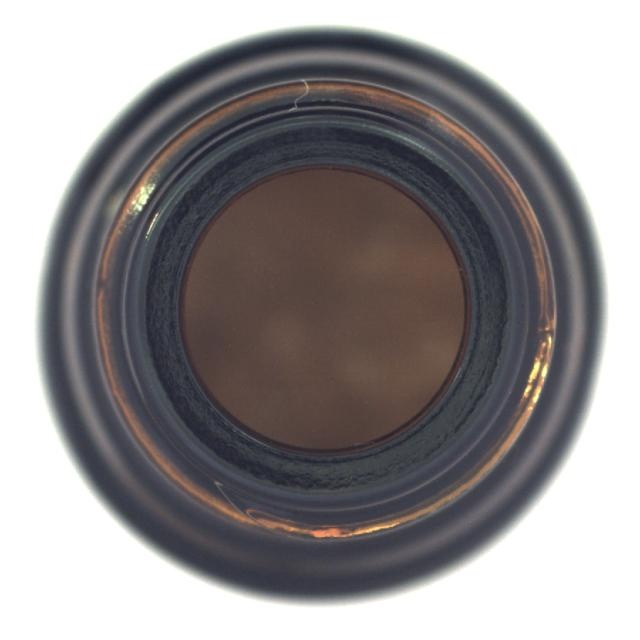bad-contamination: (36, 27, 609, 609)
